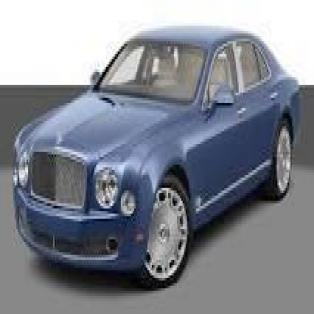Auto: (9, 24, 302, 294)
